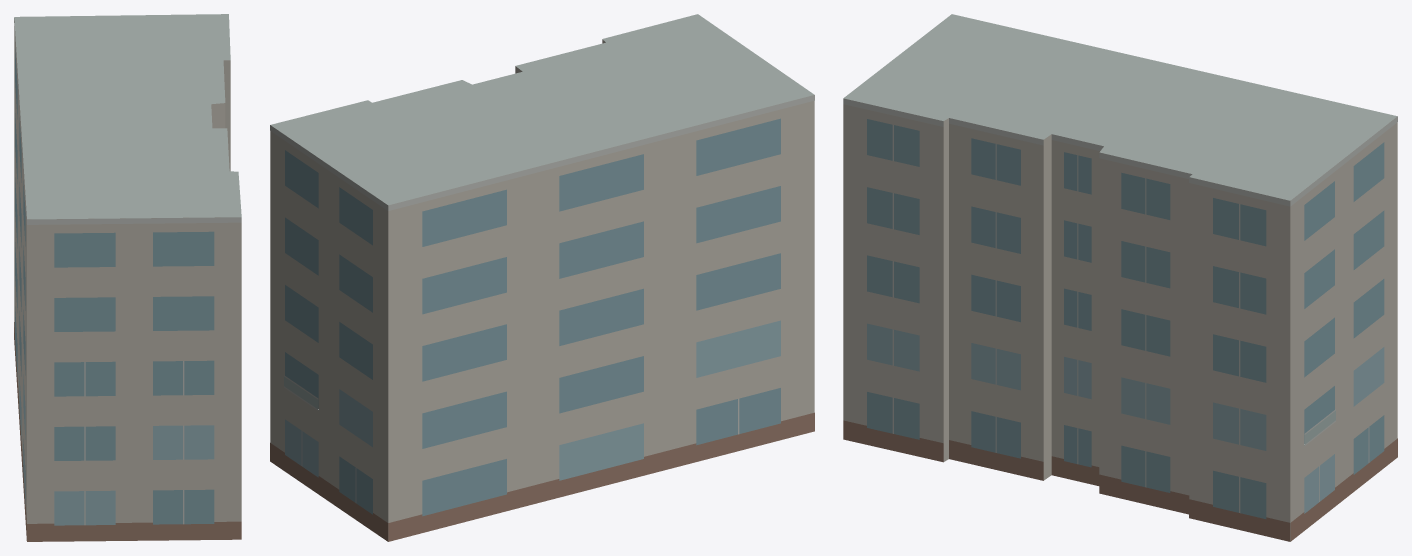
The model's file is survey-upis-32938058.glb.
3 views of the same model, side by side, from view 1: azimuth 30°, elevation 25°; view 2: azimuth 150°, elevation 25°; view 3: azimuth 270°, elevation 25° (orthographic). The views are drawn at different scales.
Parts seen in each view (by area): view 1: survey-upis-32938058.tmp; view 2: survey-upis-32938058.tmp; view 3: survey-upis-32938058.tmp.
Boxes of the visible parts, box(x1,y1,x2,y2) form: survey-upis-32938058.tmp: box(14, 14, 241, 541); survey-upis-32938058.tmp: box(270, 14, 814, 541); survey-upis-32938058.tmp: box(843, 14, 1397, 541).
Bounding box in the file's own units: 16.81 × 14.3 × 21.08.
